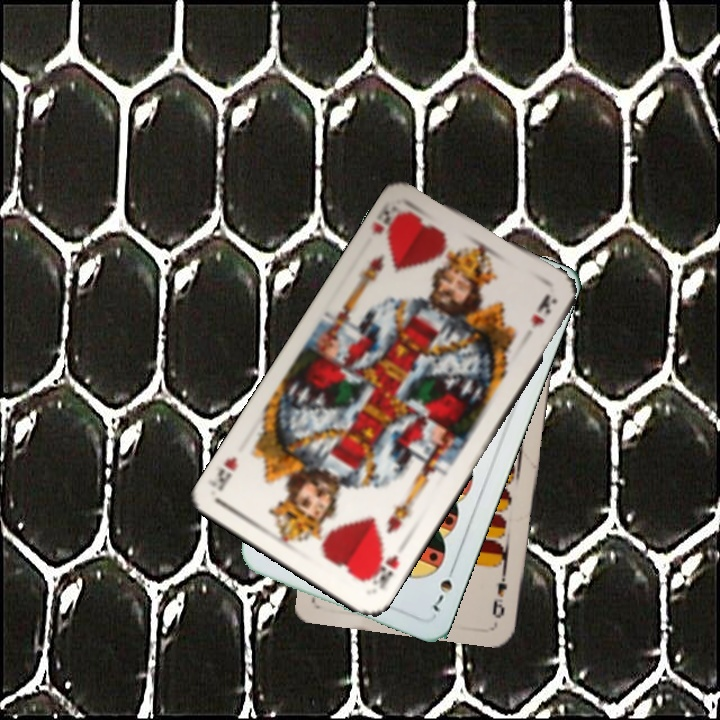E9: (488, 565, 510, 621)
HK: (368, 199, 410, 243), (364, 551, 401, 592)
S7: (428, 560, 458, 617)
